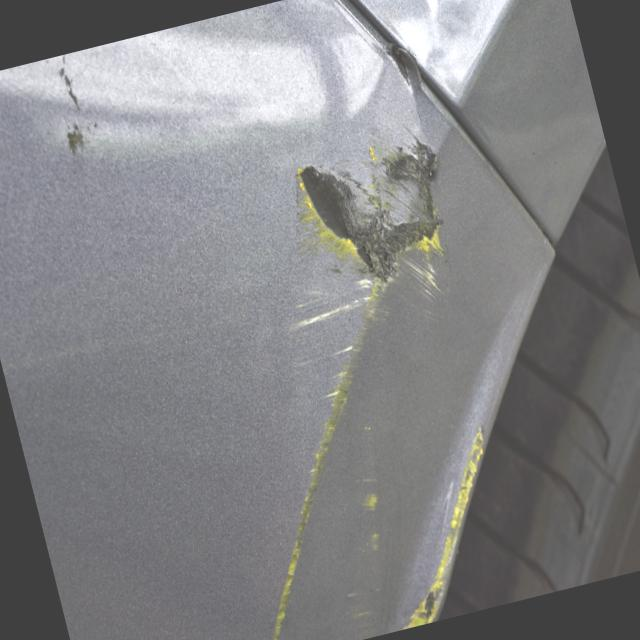Rayure: (126, 110, 560, 640), (35, 52, 109, 205)
